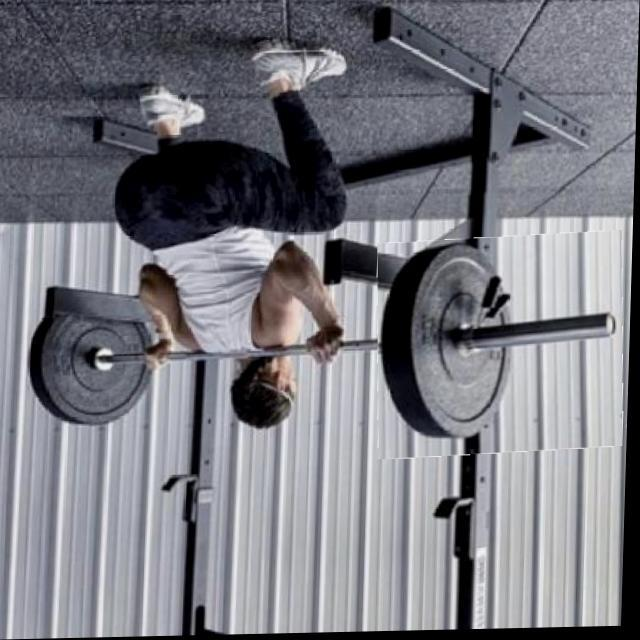barbell: (377, 236, 630, 460)
